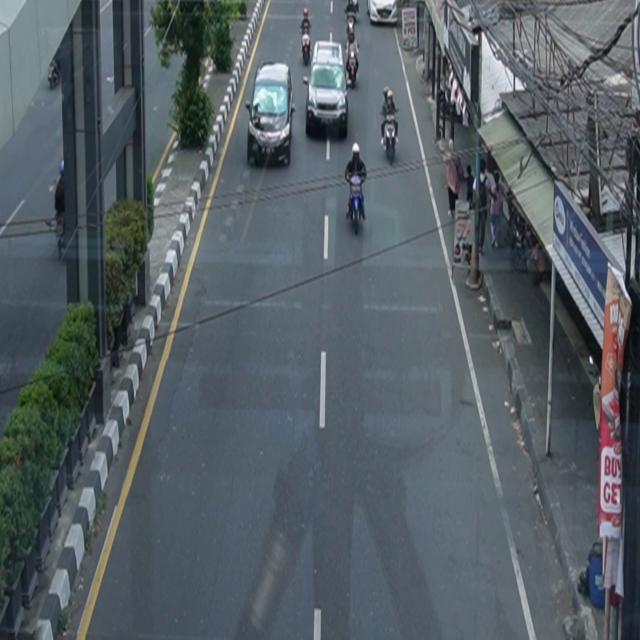car: (246, 62, 297, 168), (304, 62, 350, 139), (367, 1, 398, 26)
